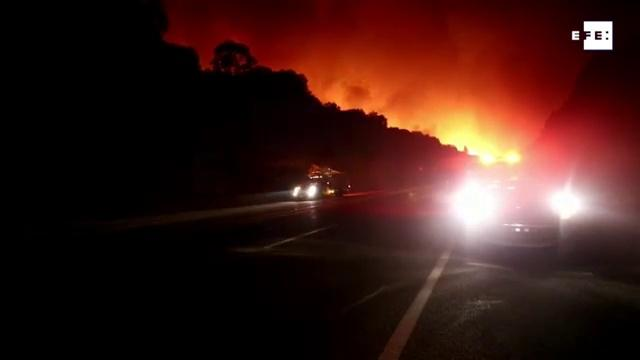fire: (445, 118, 521, 167)
